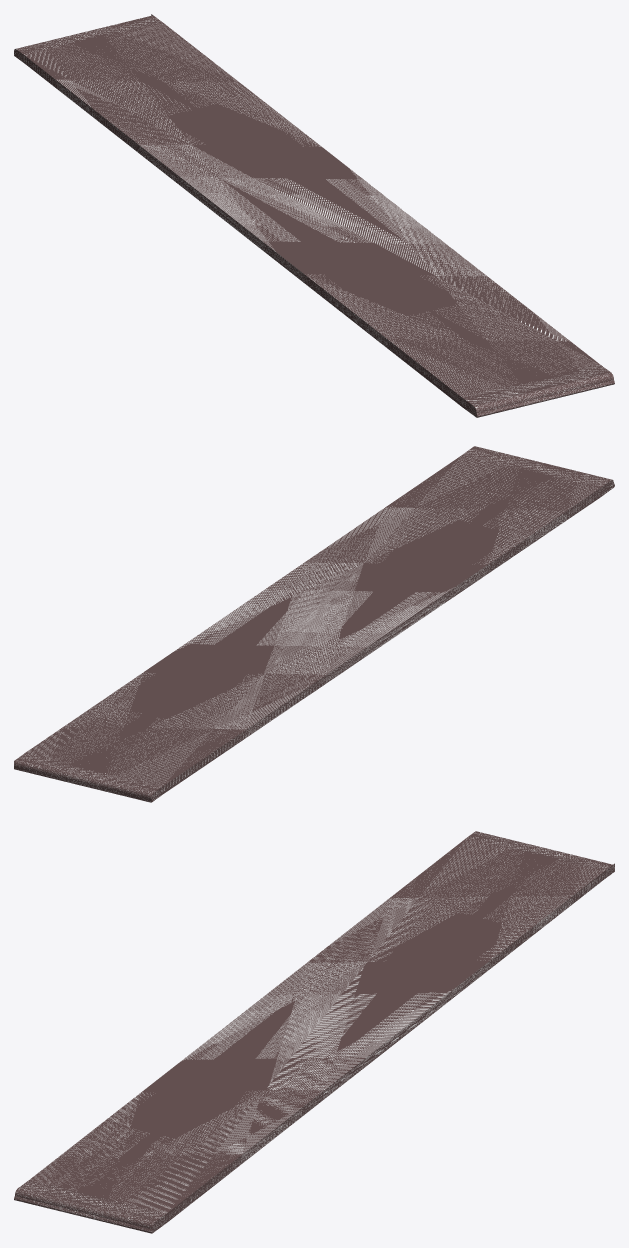
The model's file is original_7.obj.
3 renders of one model, top to bottom at view 1: azimuth 30°, elevation 25°; view 2: azimuth 150°, elevation 25°; view 3: azimuth 330°, elevation 25°, orthographic.
Parts seen in each view (by area): view 1: Group7/mesh15/mesh15-geometry#mesh15-geometry; view 2: Group7/mesh15/mesh15-geometry#mesh15-geometry; view 3: Group7/mesh15/mesh15-geometry#mesh15-geometry.
Boxes of the visible parts, x1,y1,x2,y2 form: Group7/mesh15/mesh15-geometry#mesh15-geometry: [14, 14, 614, 417]; Group7/mesh15/mesh15-geometry#mesh15-geometry: [14, 446, 614, 802]; Group7/mesh15/mesh15-geometry#mesh15-geometry: [14, 831, 614, 1233].
Bounding box in the file's own units: 0.3223 × 0.0705 × 1.88.
